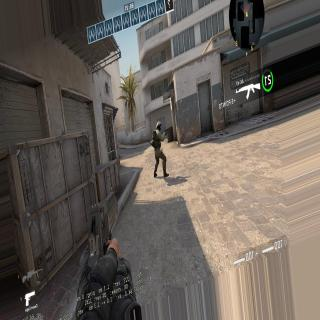CT-Body: (151, 120, 167, 173)
CT-Head: (155, 122, 162, 132)
